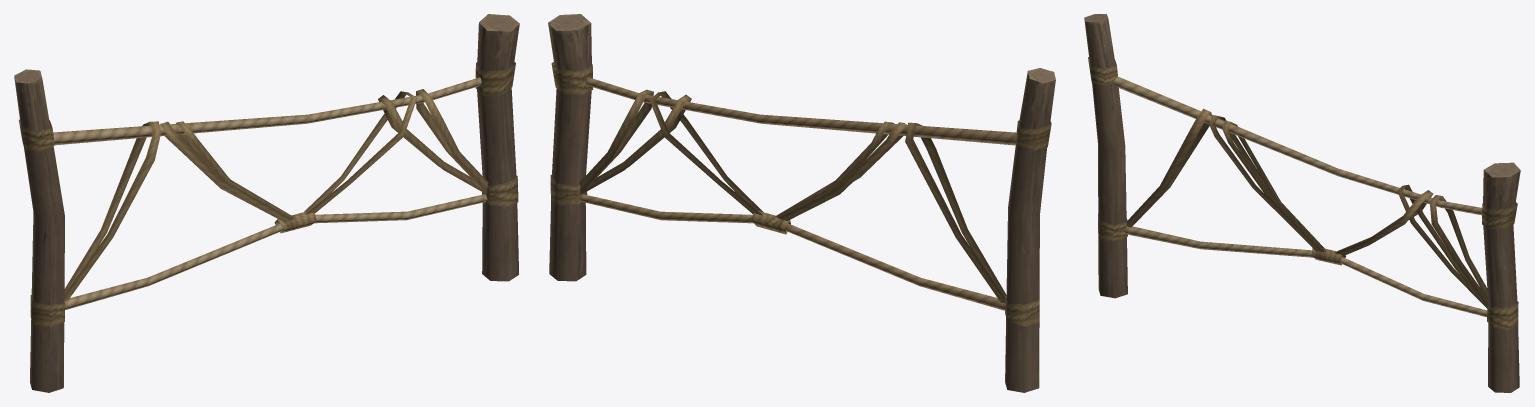
The model's file is Homeworld_Exterior_Xm_Build_Wall_02_Lod0.fbx.
3 views of the same model, side by side, from view 1: azimuth 30°, elevation 25°; view 2: azimuth 150°, elevation 25°; view 3: azimuth 330°, elevation 25° (orthographic). The views are drawn at different scales.
Parts seen in each view (by area): view 1: Homeworld_Exterior_Xm_Build_Wall_02_Lod0; view 2: Homeworld_Exterior_Xm_Build_Wall_02_Lod0; view 3: Homeworld_Exterior_Xm_Build_Wall_02_Lod0.
Boxes of the visible parts, x1=… form: Homeworld_Exterior_Xm_Build_Wall_02_Lod0: x1=14, y1=14, x2=519, y2=392; Homeworld_Exterior_Xm_Build_Wall_02_Lod0: x1=548, y1=14, x2=1055, y2=392; Homeworld_Exterior_Xm_Build_Wall_02_Lod0: x1=1084, y1=14, x2=1520, y2=392.
Bounding box in the file's own units: 2.03 × 1.22 × 0.1677.
